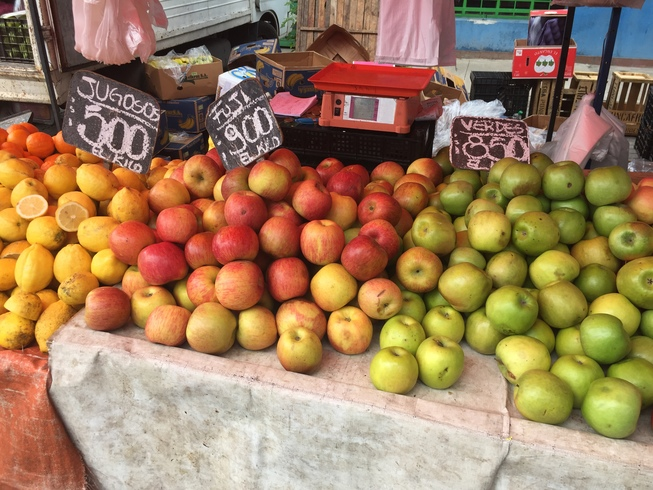precio: (58, 67, 162, 180), (203, 76, 291, 181), (445, 114, 539, 177)
